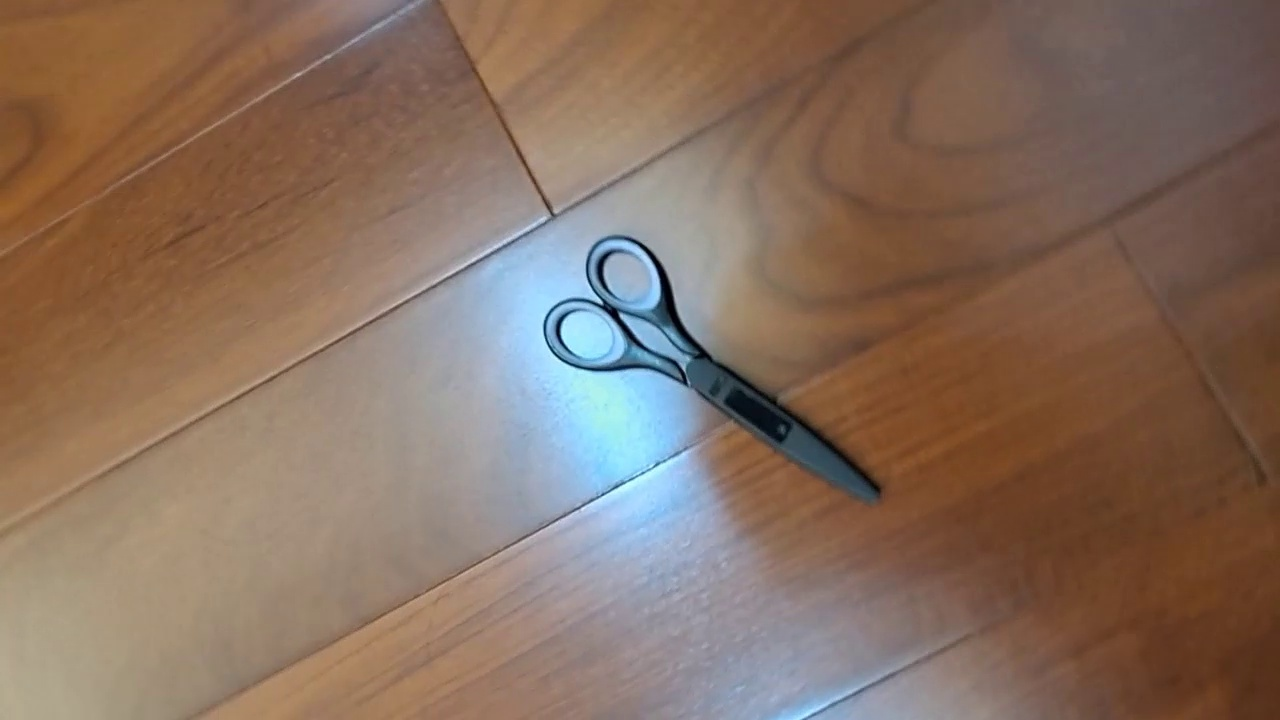scissors: (542, 234, 883, 507)
